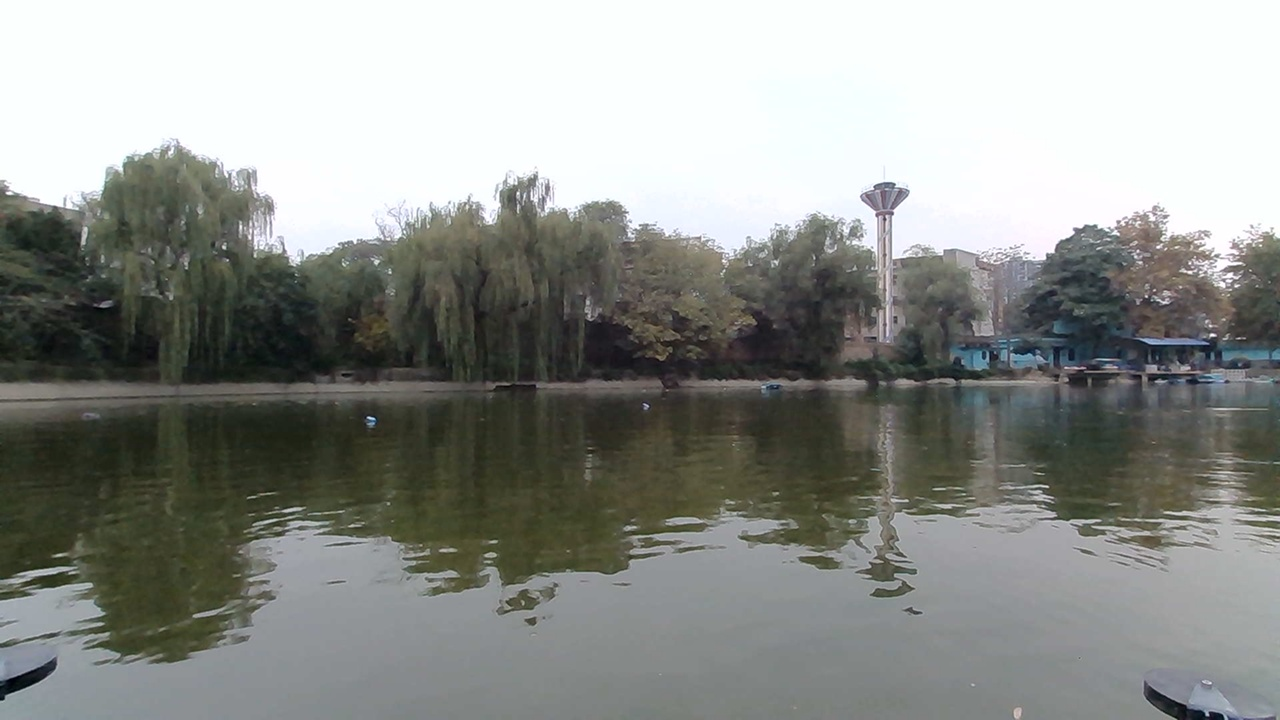bottle: (76, 401, 115, 428), (355, 412, 386, 430)
